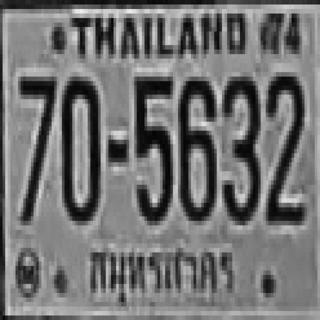N00: (59, 72, 98, 221)
N02: (266, 68, 302, 221)
N03: (221, 72, 257, 221)
N05: (133, 72, 172, 221)
N06: (175, 74, 214, 219)
N07: (18, 72, 54, 221)
P58: (83, 242, 241, 306)
